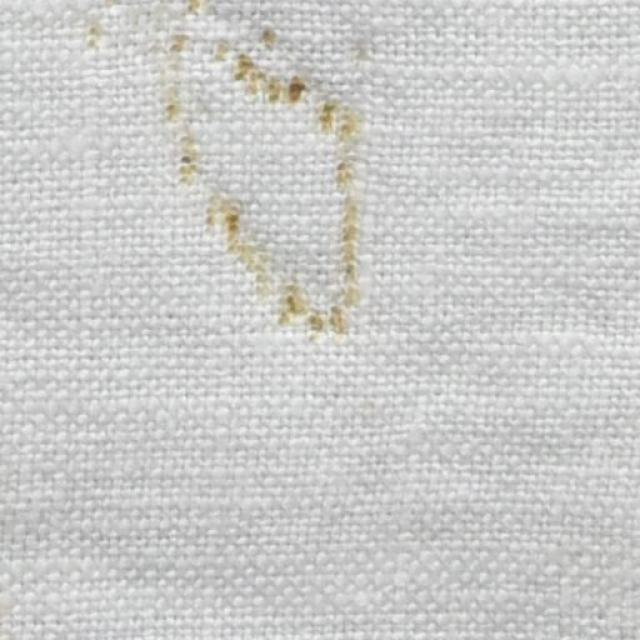Stain: (92, 0, 366, 324)
